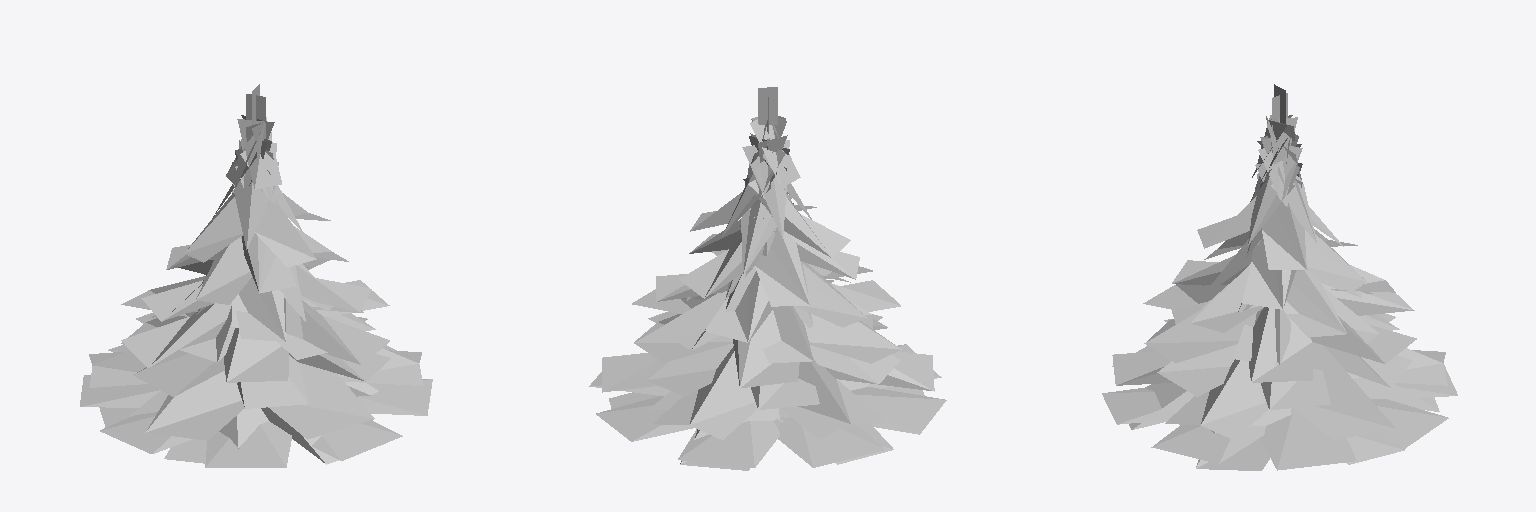
File: snow_pine_tree_lod1.obj
3 views of the same model, side by side, from view 1: azimuth 30°, elevation 25°; view 2: azimuth 150°, elevation 25°; view 3: azimuth 270°, elevation 25° (orthographic).
Visible parts, largest first — view 1: snow_pine_tree_lod1; view 2: snow_pine_tree_lod1; view 3: snow_pine_tree_lod1.
Part boxes in pixels (left/top/right/bottom): snow_pine_tree_lod1: left=80, top=84, right=432, bottom=467; snow_pine_tree_lod1: left=589, top=87, right=946, bottom=470; snow_pine_tree_lod1: left=1102, top=84, right=1457, bottom=470.
Size of the model in its own units: 8.6 by 8.96 by 8.6.